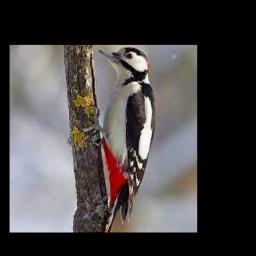Woodpecker: (87, 47, 156, 233)
